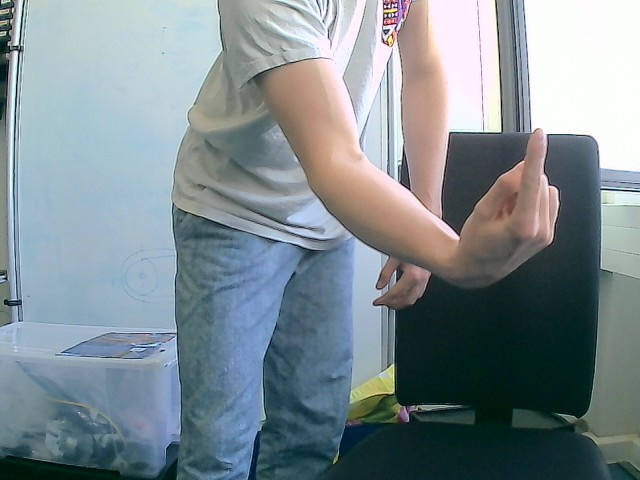up: (446, 127, 561, 290)
